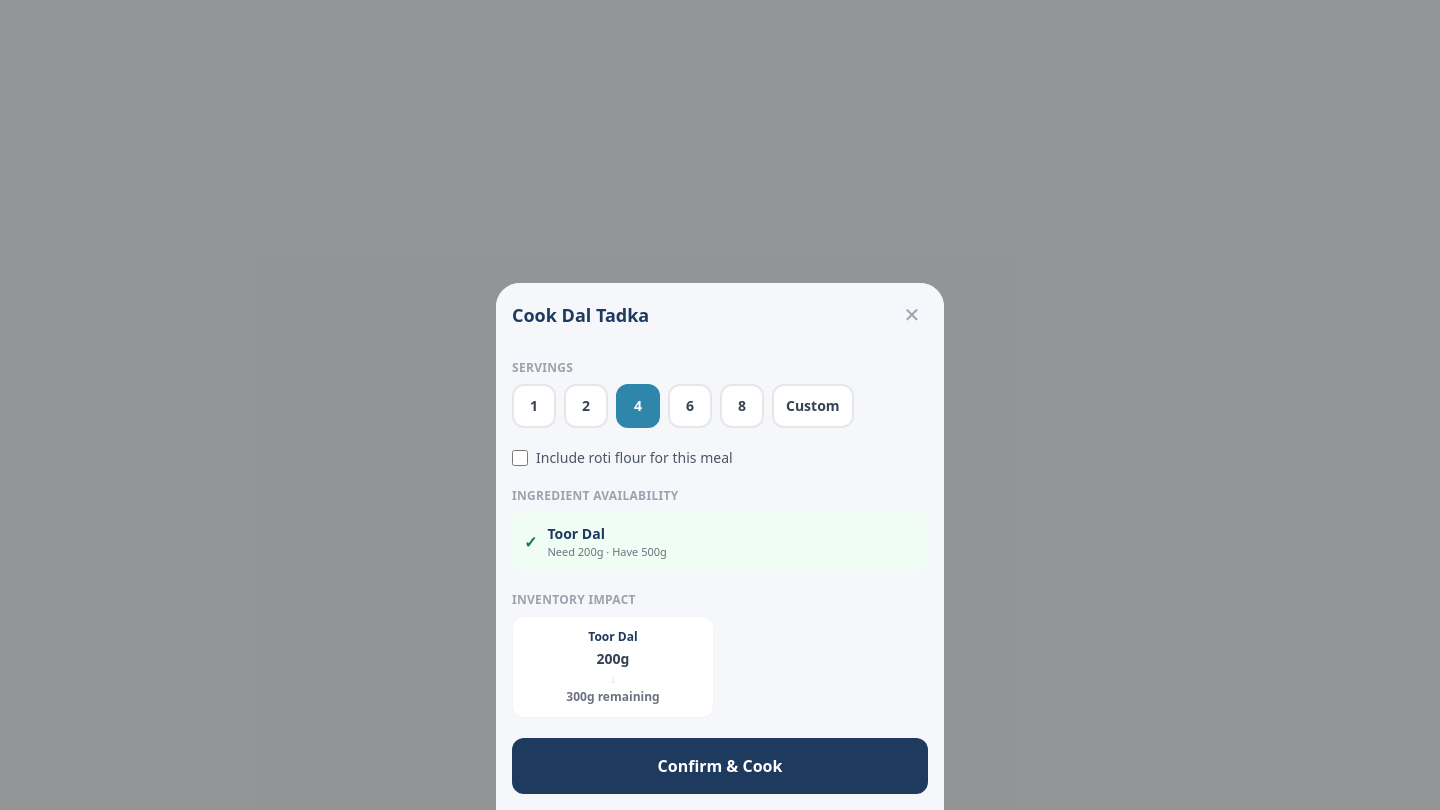
Scenario: CookMealFlow › confirms cooking and transitions to the success step
Click the button "Confirm & Cook" at (720, 766), box [512,738,928,794]
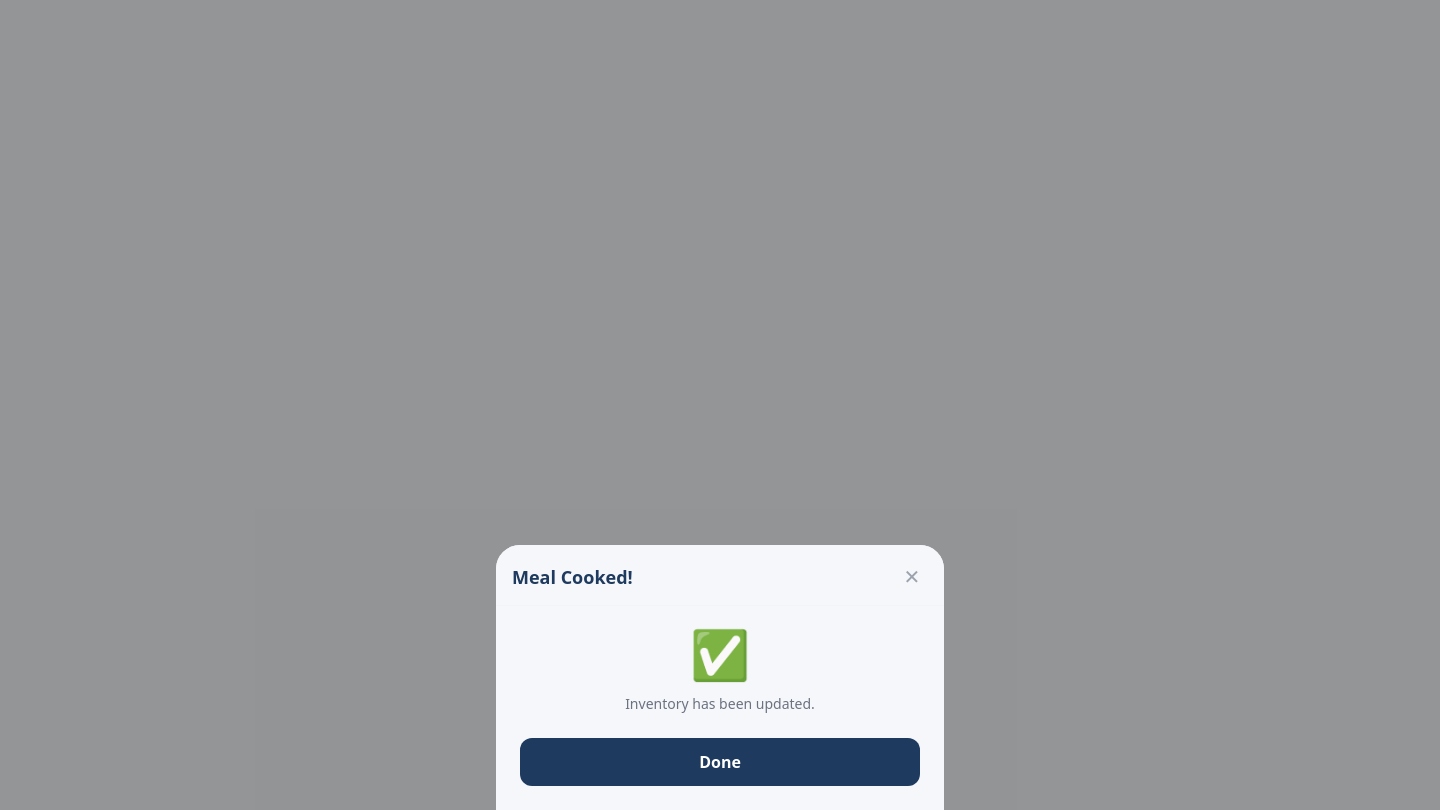
Result: the heading "Meal Cooked!" is shown at [512,563,633,591]
Result: the text "Inventory has been updated." is shown at [625,694,815,713]
